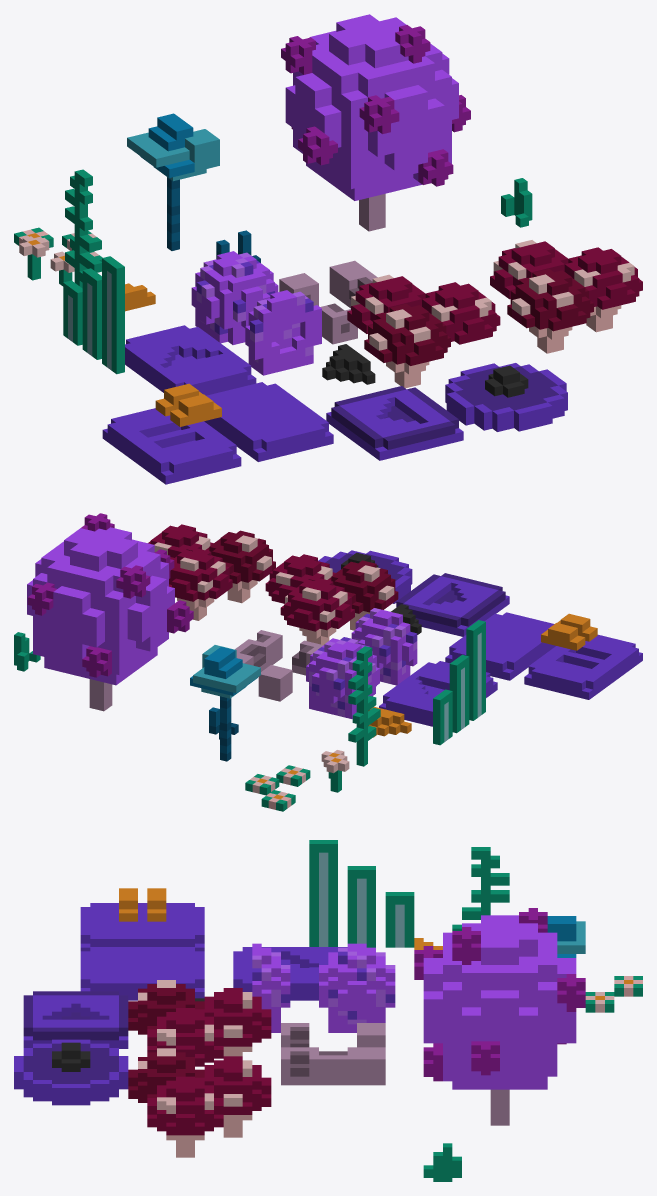
File: jump-1.obj
The picture shows the model from 3 angles, top to bottom: view 1: azimuth 30°, elevation 25°; view 2: azimuth 150°, elevation 25°; view 3: azimuth 270°, elevation 25°; orthographic projection. The views are drawn at different scales.
Bounding box in the file's own units: 6.5 × 2.3 × 6.6.
1 material, 1 textured.
